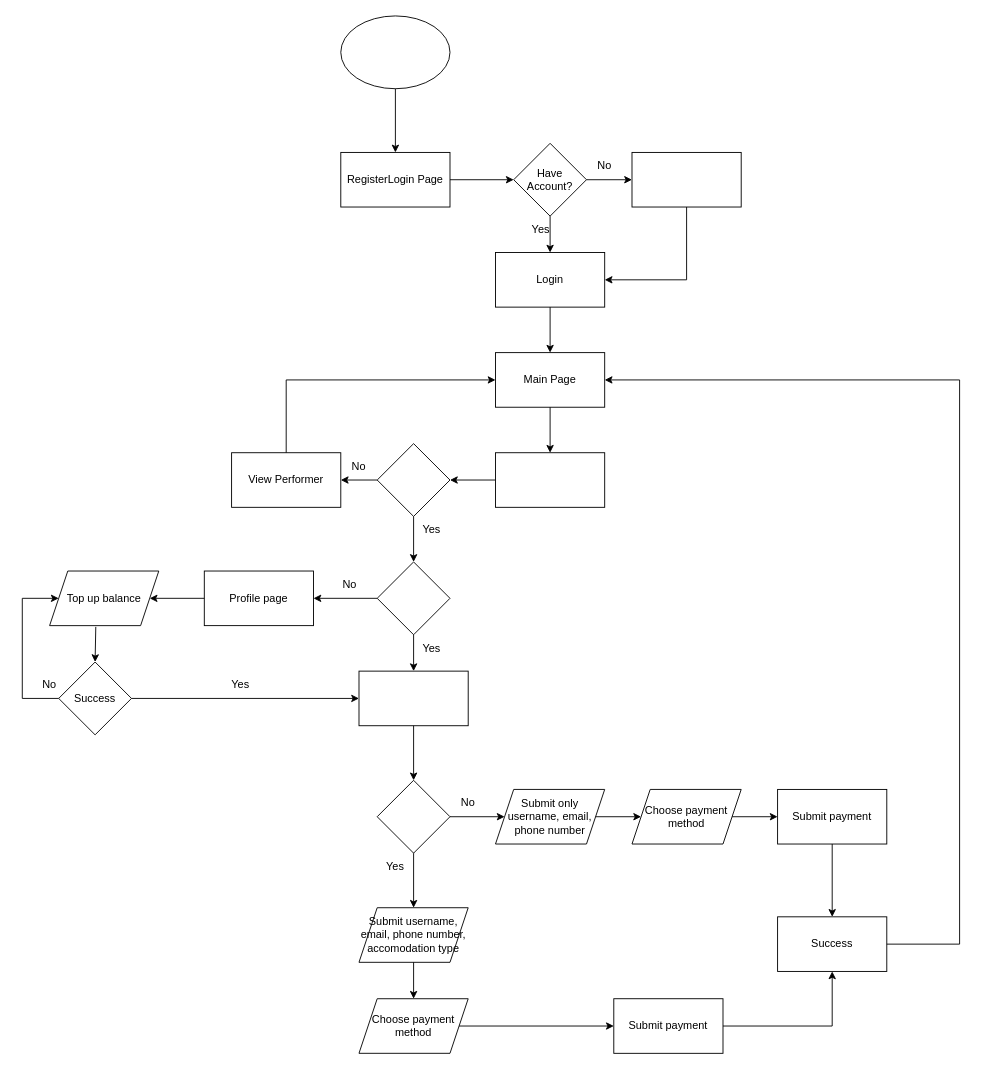
The diagram is 983 pixels wide and 1069 high, and some of its shapes have lost their labels. Here are the shapes that lost their labels. From the top down, the centre of each, then its label:
At point 395,52: "Start".
At point 686,179: "Register Account".
At point 413,479: "Buy Tickets?".
At point 550,479: "View Available Concerts".
At point 413,598: "Already have balance?".
At point 413,698: "Order Page".
At point 413,816: "User Type Privillege?".
